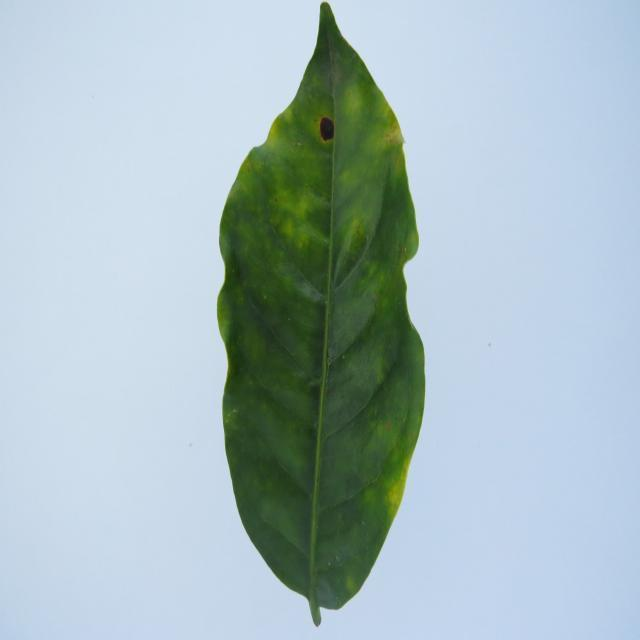DeficienciaNutricional-Magnesio: (218, 3, 425, 625)
